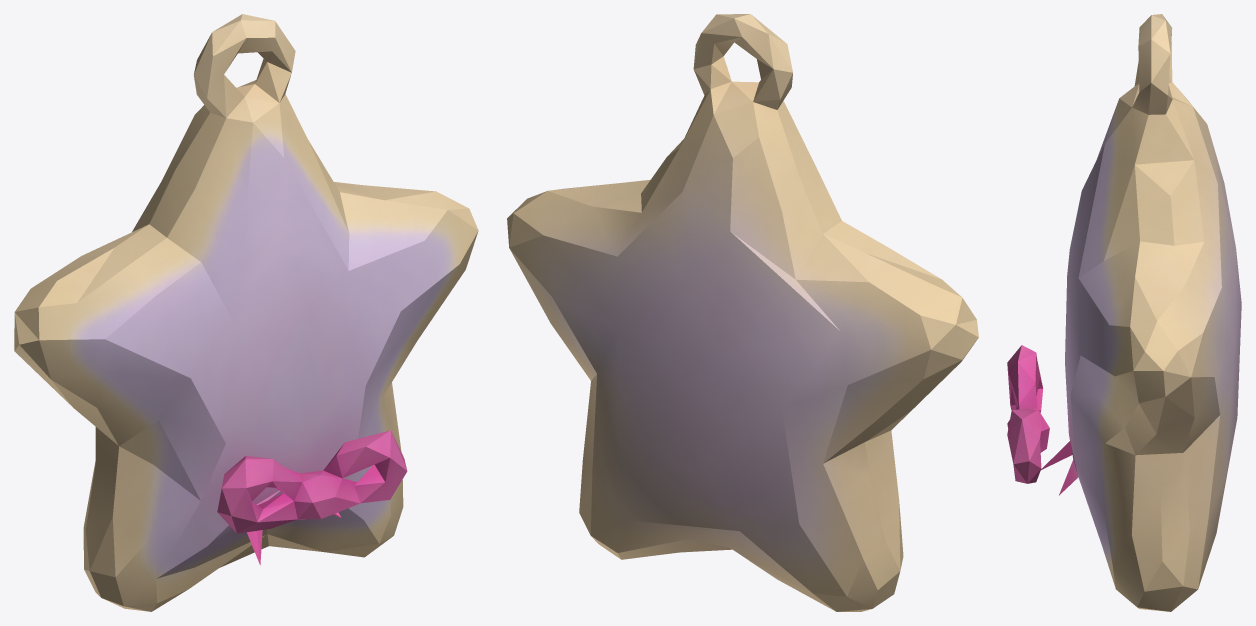
3 views of the same model, side by side, from view 1: azimuth 30°, elevation 25°; view 2: azimuth 150°, elevation 25°; view 3: azimuth 270°, elevation 25° (orthographic). The views are drawn at different scales.
Parts seen in each view (by area): view 1: model; view 2: model; view 3: model.
Part boxes in pixels (x1,y1,x2,y2): model: (14,14,478,611); model: (507,14,978,611); model: (1007,14,1241,611).
Size of the model in its own units: 161 by 188 by 73.89.
1 material, 1 textured.
